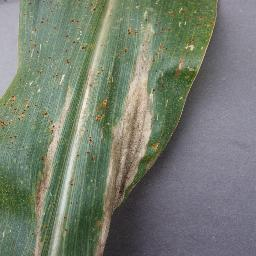Corn_Blight: (108, 8, 163, 133), (164, 0, 221, 85), (101, 131, 163, 199), (91, 200, 126, 256), (3, 94, 46, 121), (39, 135, 61, 167), (33, 213, 47, 256), (28, 187, 49, 214), (48, 110, 71, 134), (84, 129, 98, 168), (18, 35, 41, 58), (64, 33, 88, 52), (0, 122, 18, 147), (63, 79, 77, 109), (34, 166, 54, 187), (95, 93, 107, 128), (88, 62, 103, 90), (27, 15, 45, 31), (24, 69, 45, 78), (66, 15, 83, 26), (63, 214, 72, 234), (90, 1, 100, 15), (69, 181, 76, 191), (61, 59, 72, 65), (67, 201, 77, 206), (72, 153, 80, 159)
